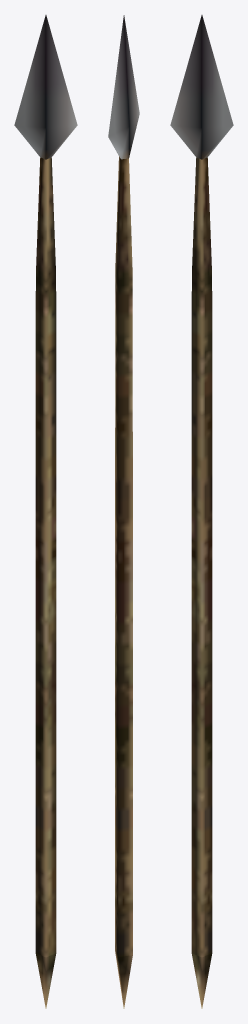
File: spear_lance.dae
3 renders of one model, left to right at view 1: azimuth 90°, elevation 25°; view 2: azimuth 150°, elevation 25°; view 3: azimuth 270°, elevation 25°, orthographic.
Visible parts, largest first — view 1: spear10-Pivot; view 2: spear10-Pivot; view 3: spear10-Pivot.
Boxes of the visible parts, box(x1,y1,x2,y2) form: spear10-Pivot: box(14, 15, 77, 1008); spear10-Pivot: box(108, 15, 139, 1008); spear10-Pivot: box(170, 15, 233, 1008).
Size of the model in its own units: 0.0988 by 0.3029 by 5.26.
